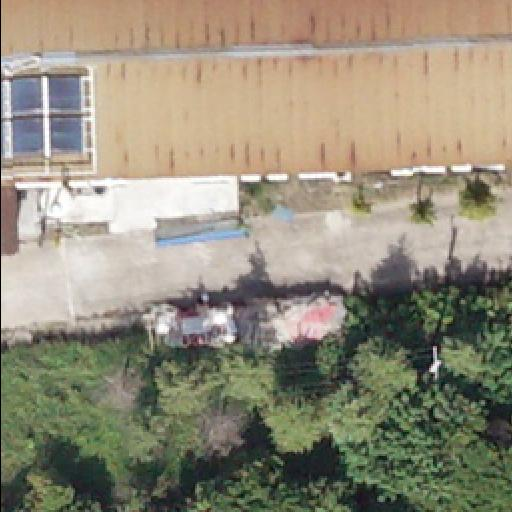solar-panel: (0, 45, 104, 190)
